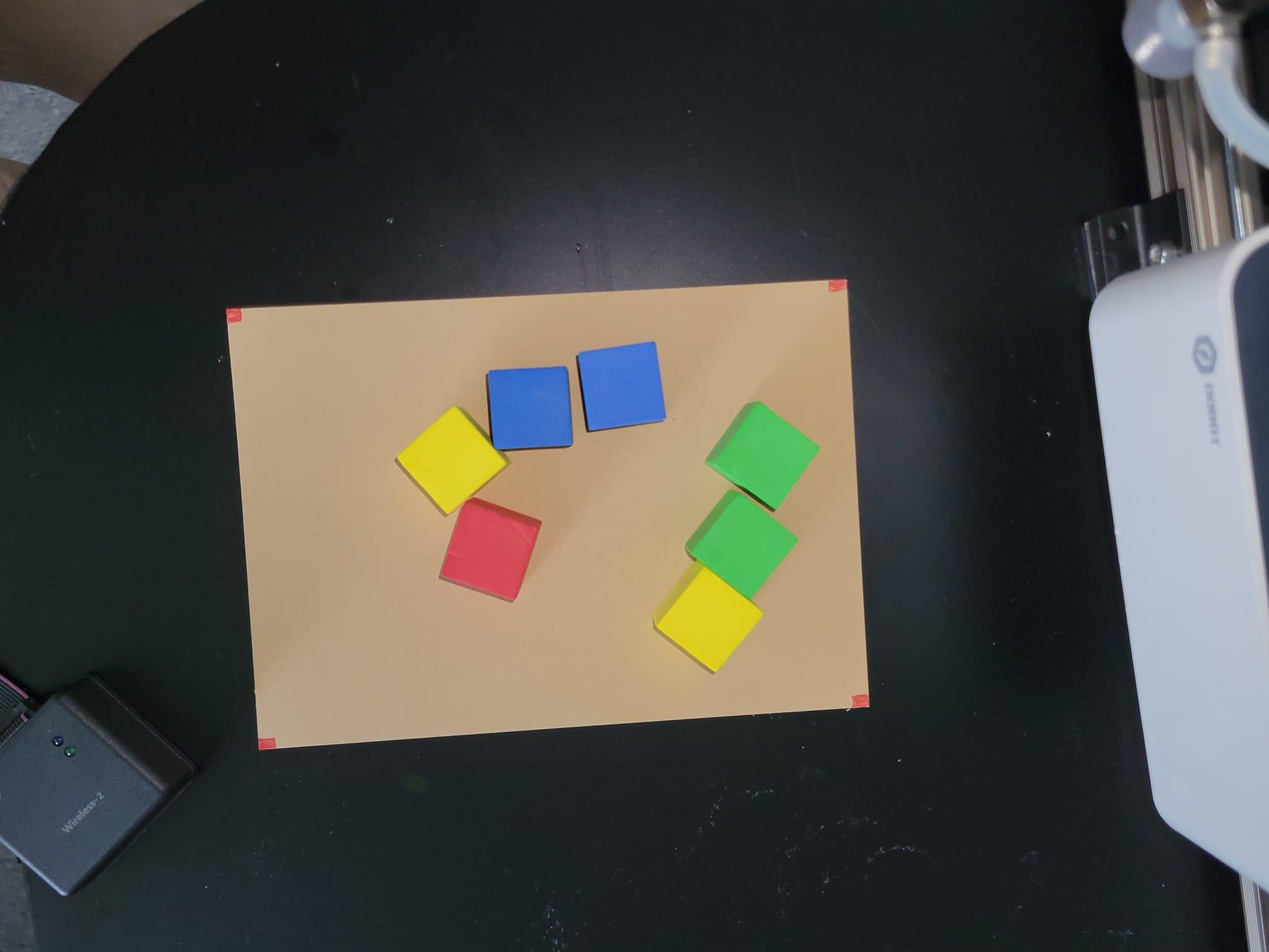cube: (376, 392, 515, 520), (436, 500, 551, 618), (648, 562, 765, 676), (704, 399, 822, 511), (682, 490, 797, 602), (482, 359, 579, 455), (574, 340, 667, 434)
